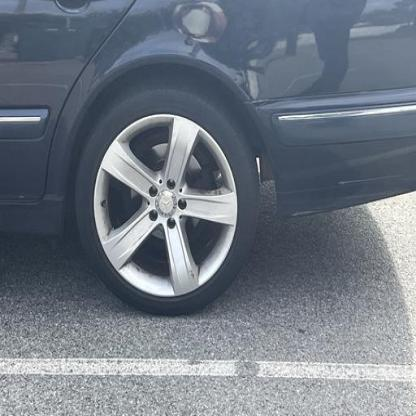Tire: (76, 86, 262, 319)
